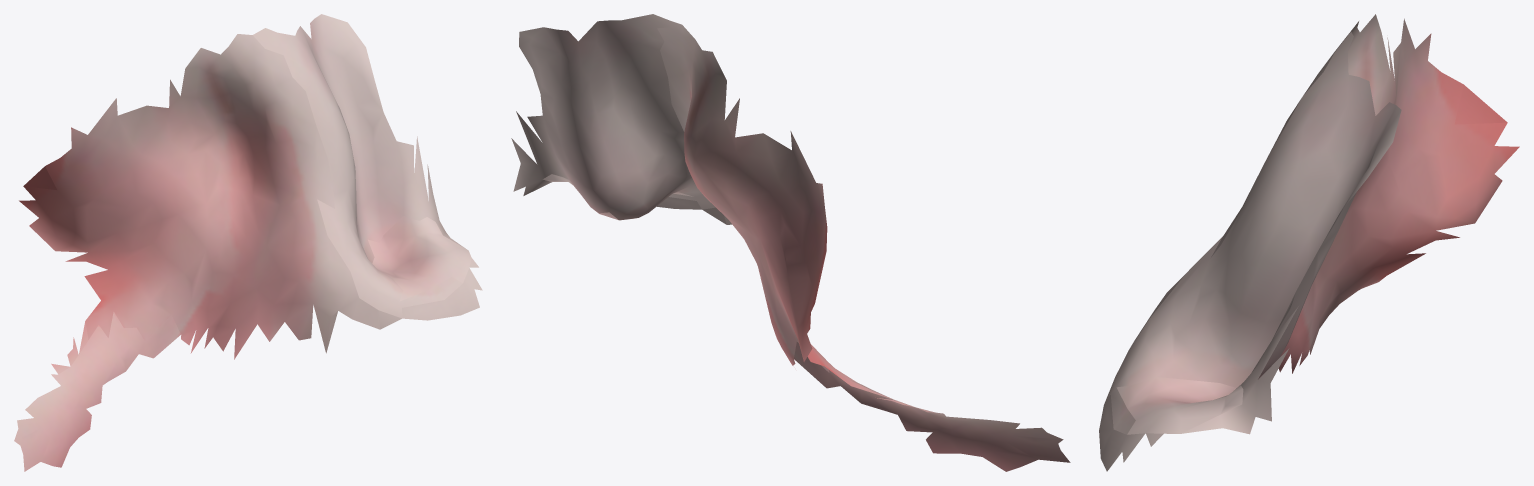
File: Aussen3.glb
The picture shows the model from 3 angles, left to right: view 1: azimuth 30°, elevation 25°; view 2: azimuth 150°, elevation 25°; view 3: azimuth 270°, elevation 25°; orthographic projection. The views are drawn at different scales.
Size of the model in its own units: 1.18 by 0.8914 by 0.693.
Materials: 1 (1 with a texture image).
